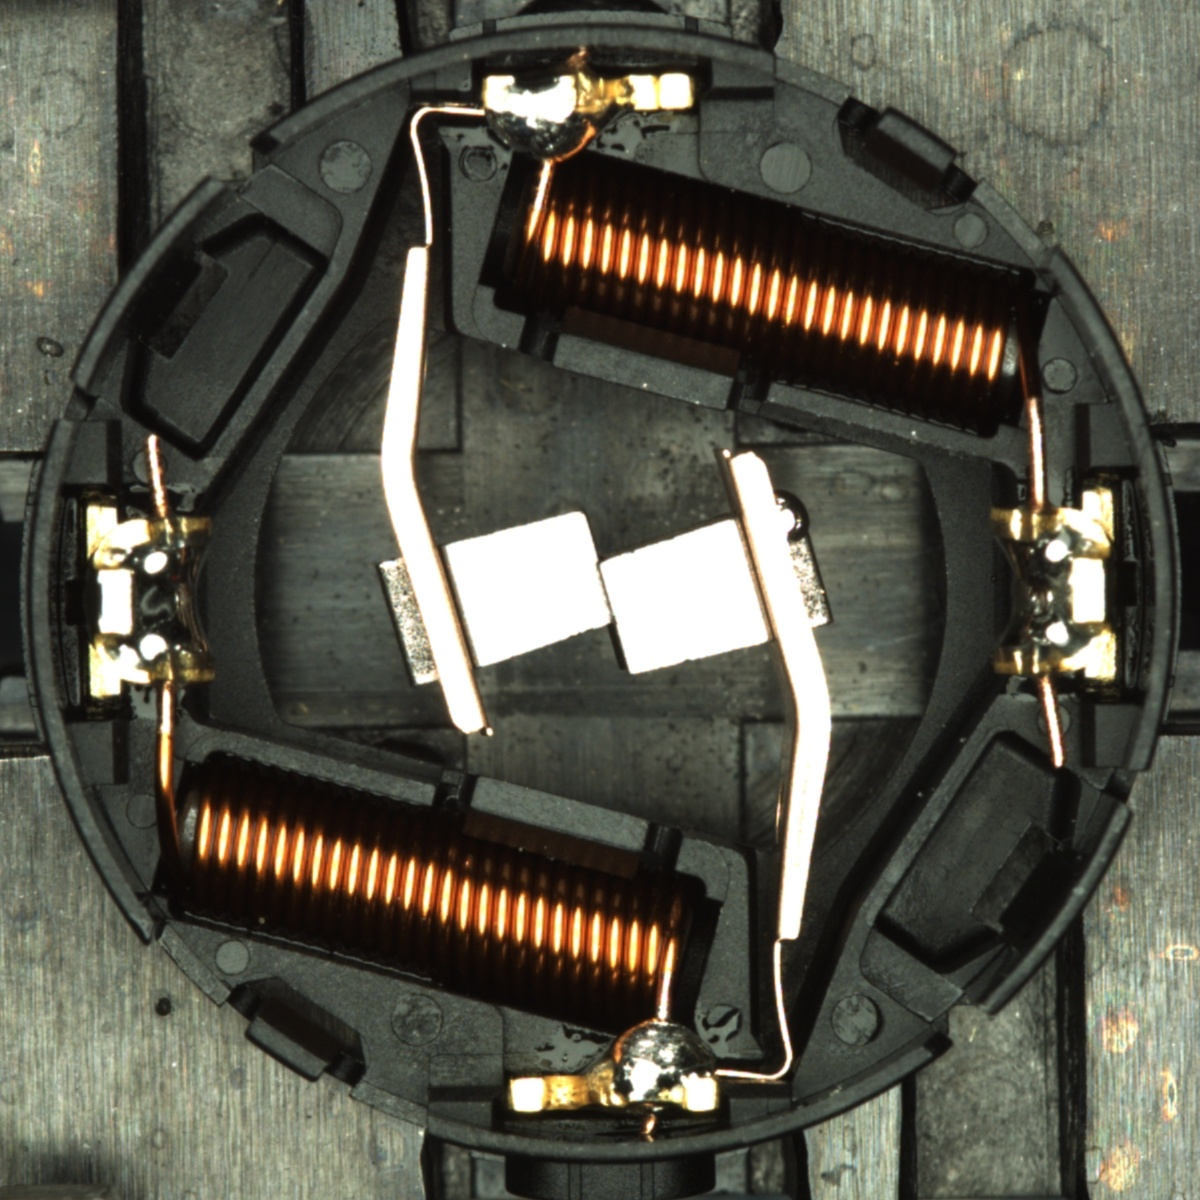1: (258, 55, 487, 279), (716, 953, 945, 1177)
2: (716, 55, 945, 279), (258, 953, 487, 1177)
3: (29, 279, 258, 503), (945, 729, 1175, 953)
4: (258, 279, 487, 503), (716, 729, 945, 953)
5: (487, 167, 716, 391), (487, 841, 716, 1065)
6: (716, 279, 945, 503), (258, 729, 487, 953)
7: (945, 279, 1175, 503), (29, 729, 258, 953)
chau_dien: (79, 499, 219, 701), (984, 488, 1123, 687)
hat_chi: (773, 489, 810, 542)
tay_choi: (480, 69, 699, 170), (507, 1015, 721, 1116)
thanh_de: (953, 787, 1141, 1031), (58, 164, 244, 404)
